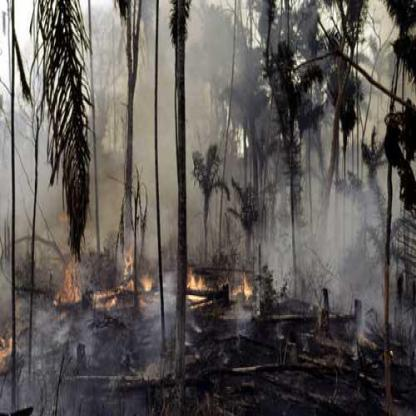fire: (95, 266, 156, 307), (60, 264, 88, 308), (186, 263, 208, 304), (229, 274, 256, 298), (1, 330, 15, 366)
